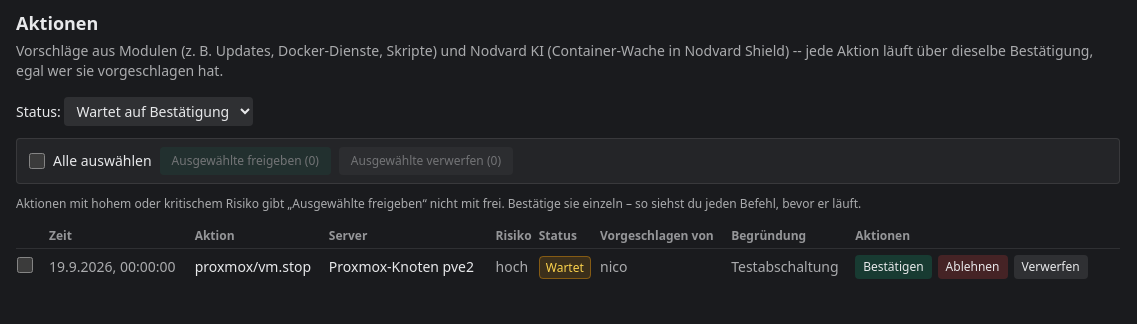
it: ActionsPage › meldet „Ausgeführt“, wenn die Ausführung geklappt hat
Step 1. Click the button "Bestätigen" → (893, 267), box x1=855 y1=255 x2=932 y2=279
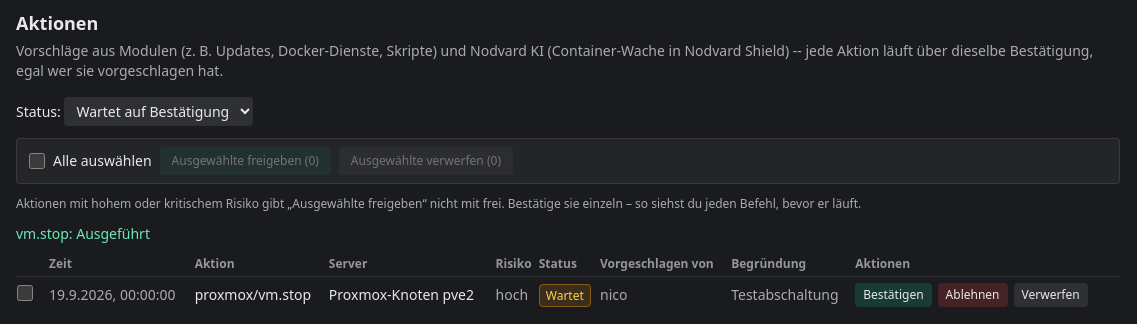
Result: the text "vm.stop: Ausgeführt" is shown at x1=16 y1=224 x2=150 y2=243
